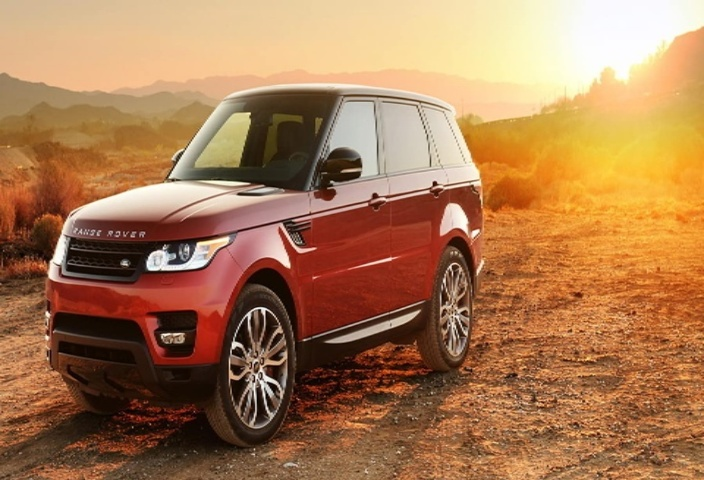camper: (37, 75, 498, 442)
